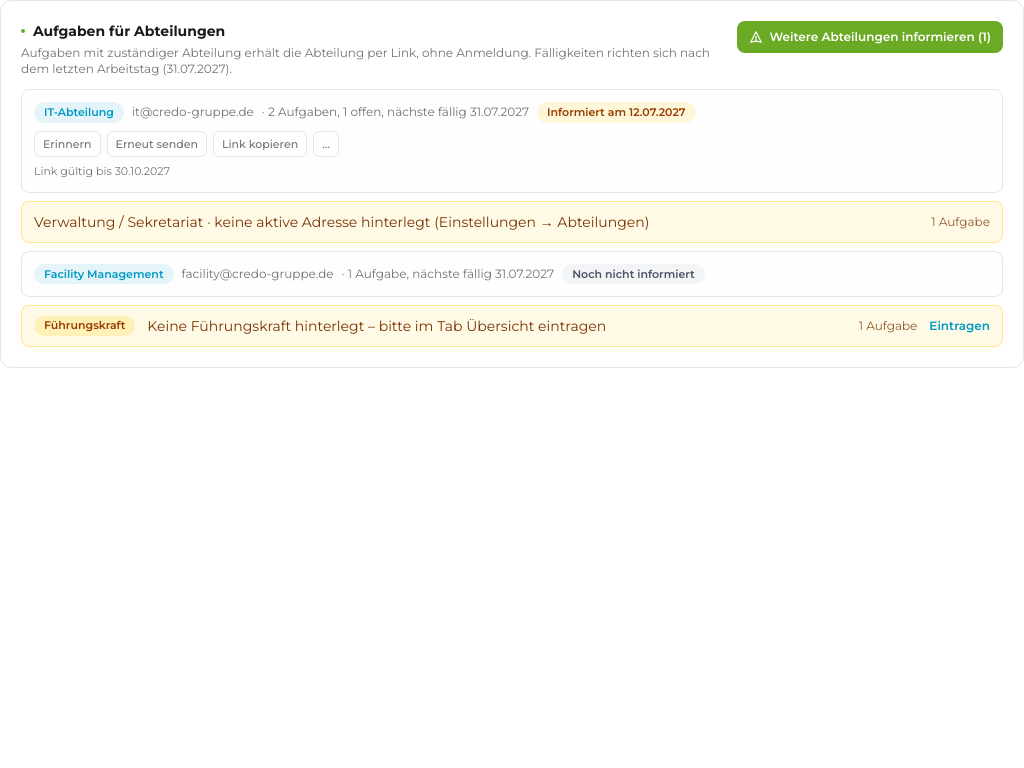
Test: Link erneuern… › fragt mit den Texten des Vertrags nach
This screenshot has width=1024, height=768.
Click the button named "Weitere Aktionen für IT-Abteilung".
click(326, 144)  # box [313,130,339,157]
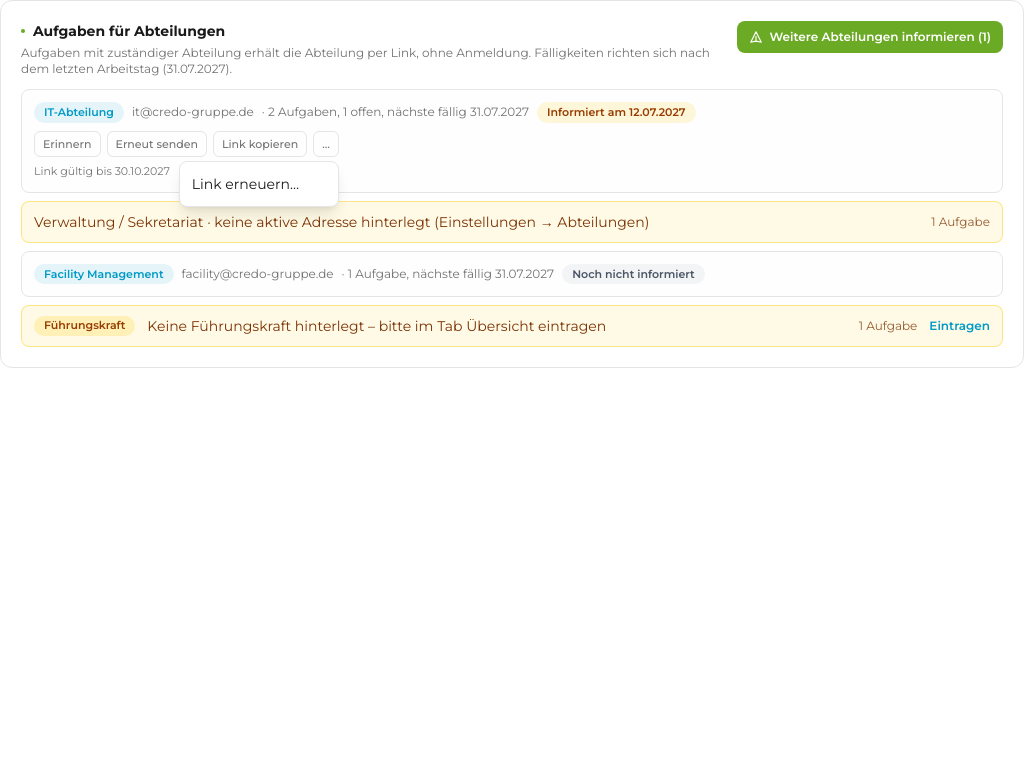
Click the menu item "Link erneuern…".
click(259, 184)  # box [180,166,338,202]
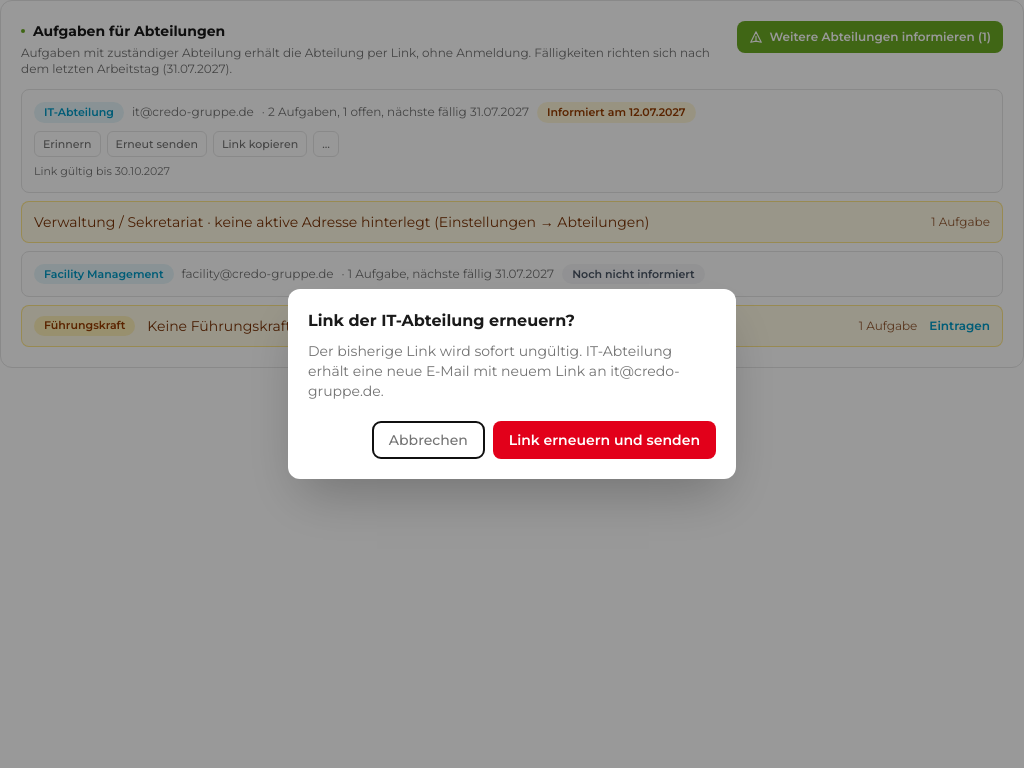
Result: the heading reads "Link der IT-Abteilung erneuern?" at [308,311,575,330]
Result: the dialog shows "Der bisherige Link wird sofort ungültig. IT-Abteilung erhält eine neue E-Mail mit neuem Link an it@credo-gruppe.de."
Result: the button "Abbrechen" is shown at [372,421,485,459]
